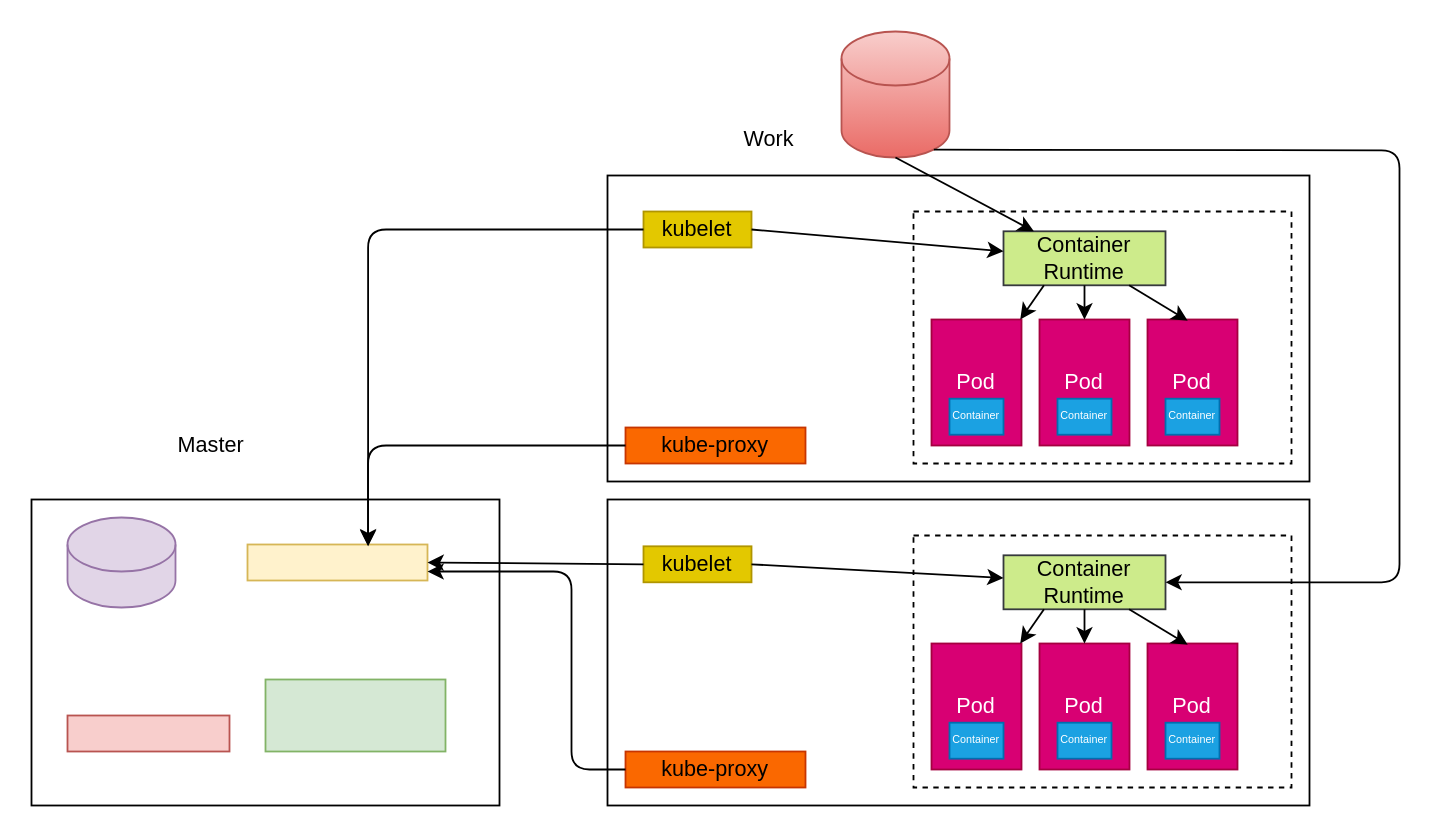
Some shapes in this 1445 by 837 pixel diagram are drawn without their labels. The centre of each missing label's shape, as x and y in pixels:
"api server" belongs at (337,561).
"Controller Manger" belongs at (355,715).
"docker hub" belongs at (895,94).
"ECTD" belongs at (121,562).
"scheduler" belongs at (148,733).
